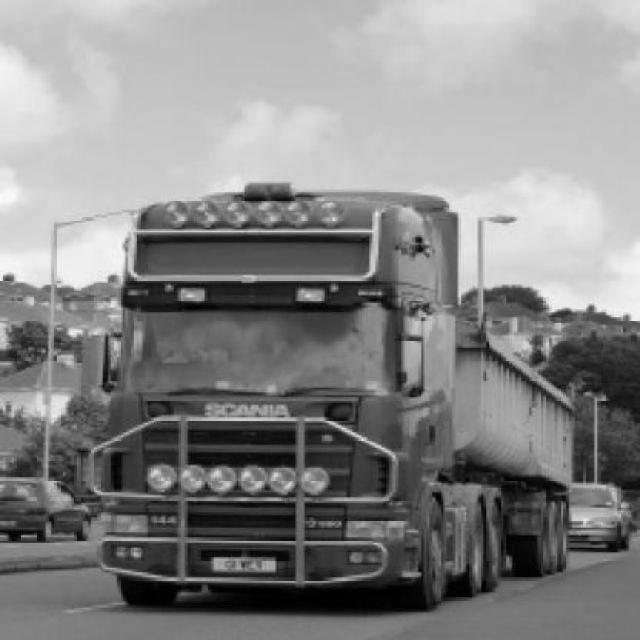Box Truck: (85, 183, 578, 610)
